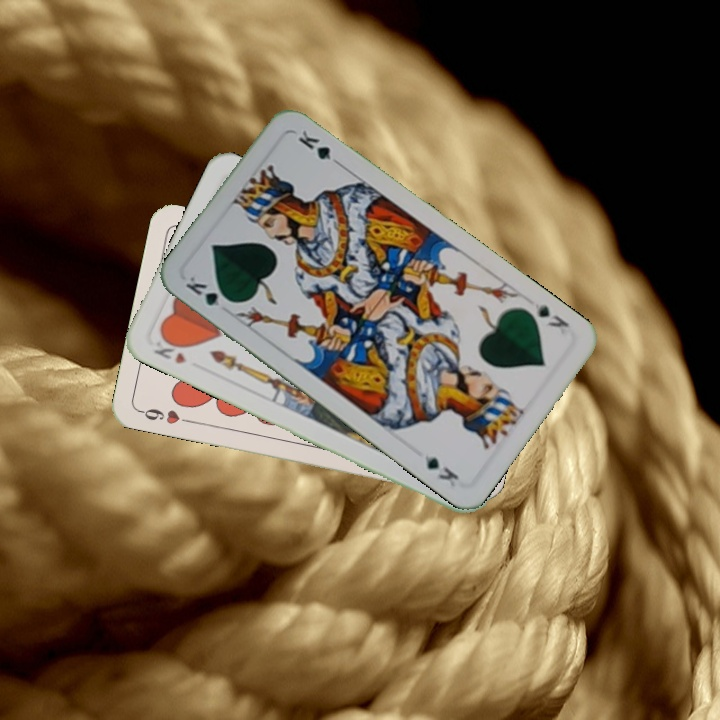GK: (181, 272, 236, 312), (530, 299, 572, 331)
H9: (135, 404, 194, 427)
HK: (149, 332, 189, 367)
